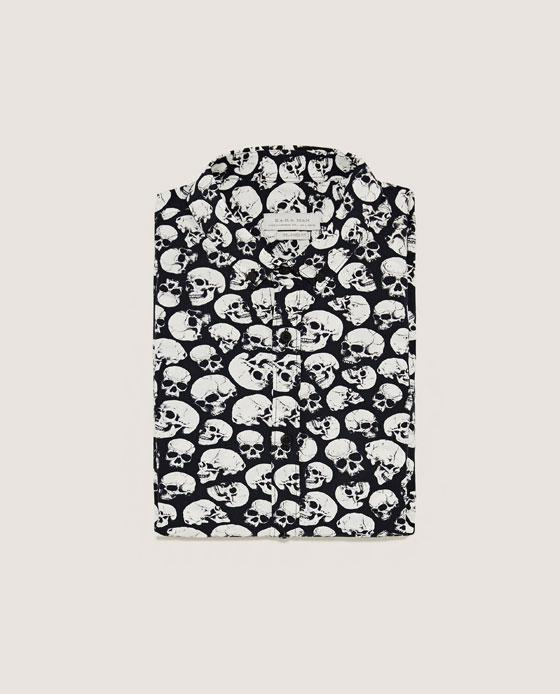teeshirt: (138, 140, 424, 557)
